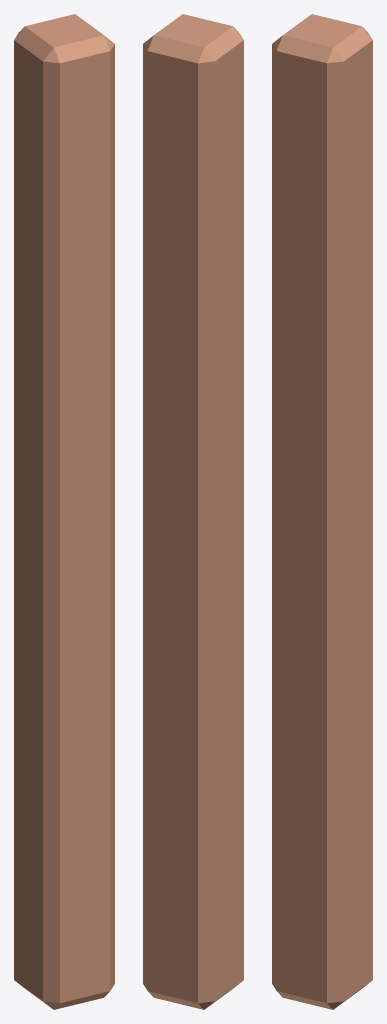
The model's file is corner_upper.glb.
The picture shows the model from 3 angles, left to right: view 1: azimuth 30°, elevation 25°; view 2: azimuth 150°, elevation 25°; view 3: azimuth 330°, elevation 25°; orthographic projection.
Visible parts, largest first — view 1: corner_upper; view 2: corner_upper; view 3: corner_upper.
Part boxes in pixels (box(x1,y1,x2,y2)): corner_upper: box(14, 14, 114, 1009); corner_upper: box(143, 14, 243, 1009); corner_upper: box(272, 14, 372, 1009).
Size of the model in its own units: 0.1 by 1.28 by 0.1.
